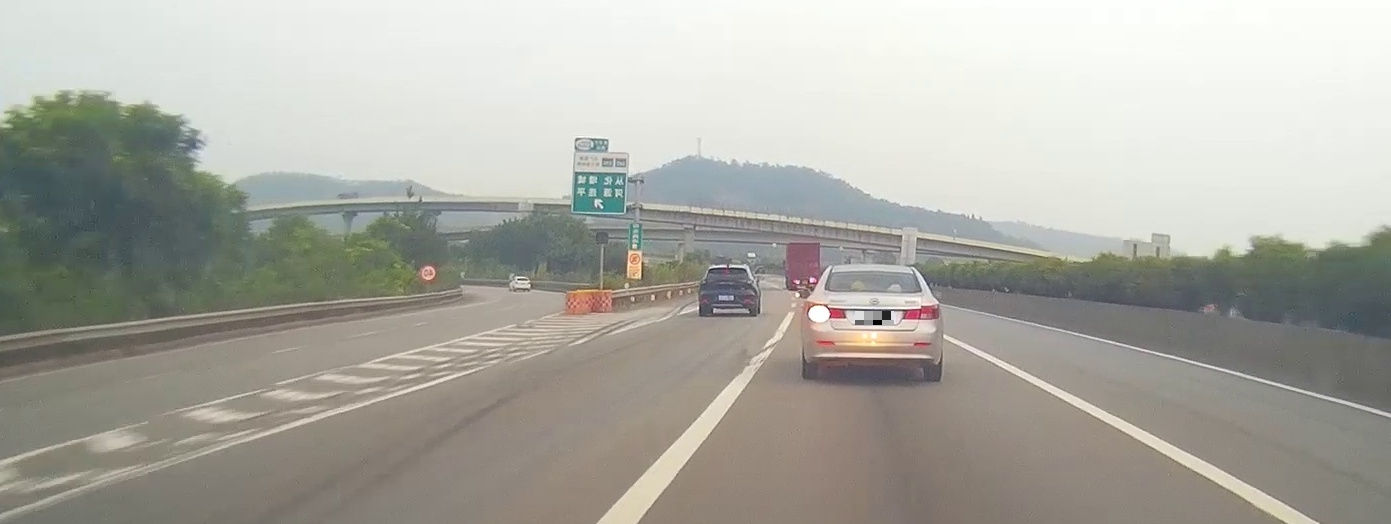L_light: (803, 300, 847, 319), (739, 279, 754, 284), (700, 280, 712, 284)
R_light: (902, 304, 940, 320)
T_light: (863, 289, 886, 292), (724, 268, 732, 270)
day-left: (800, 264, 943, 382)
day-no: (698, 264, 757, 317)
plate_1: (855, 311, 894, 325)
